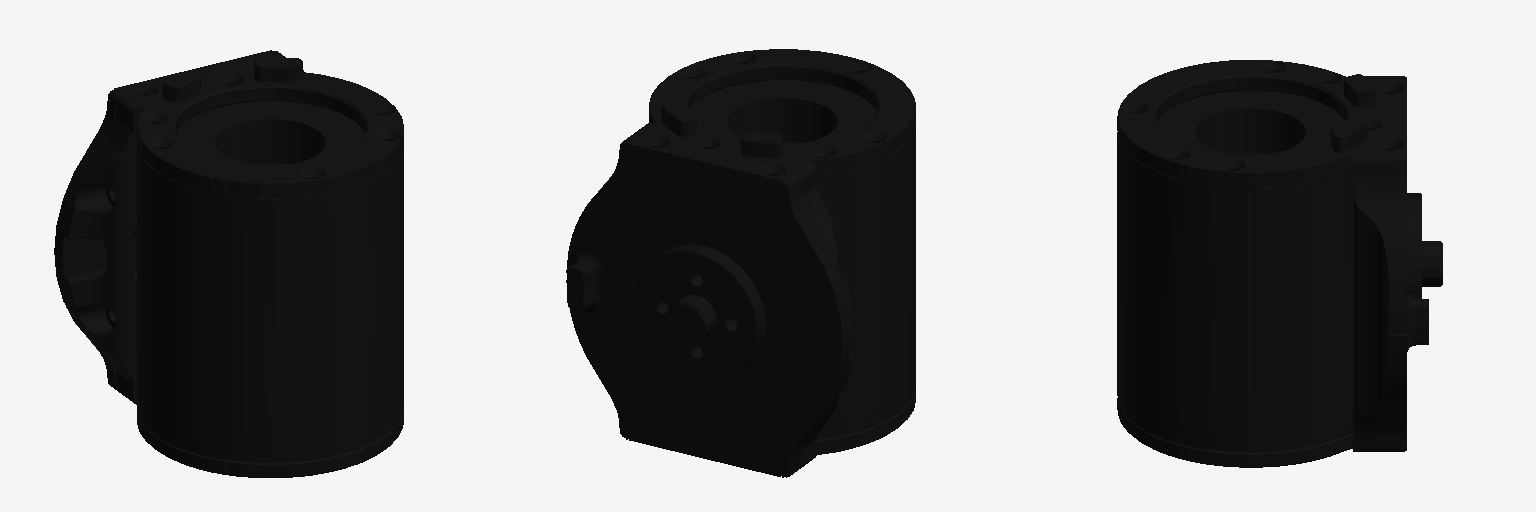
The picture shows the model from 3 angles: view 1: azimuth 30°, elevation 25°; view 2: azimuth 150°, elevation 25°; view 3: azimuth 270°, elevation 25°; orthographic projection.
Parts seen in each view (by area): view 1: Mesh, link1; view 2: Mesh, link1; view 3: Mesh, link1.
Boxes of the visible parts, <box> form: Mesh: <box>54,50,403,477</box>; link1: <box>55,51,403,477</box>; Mesh: <box>566,49,915,477</box>; link1: <box>569,49,915,477</box>; Mesh: <box>1117,60,1442,467</box>; link1: <box>1117,60,1428,467</box>.
Bounding box in the file's own units: 0.072 × 0.0775 × 0.073.